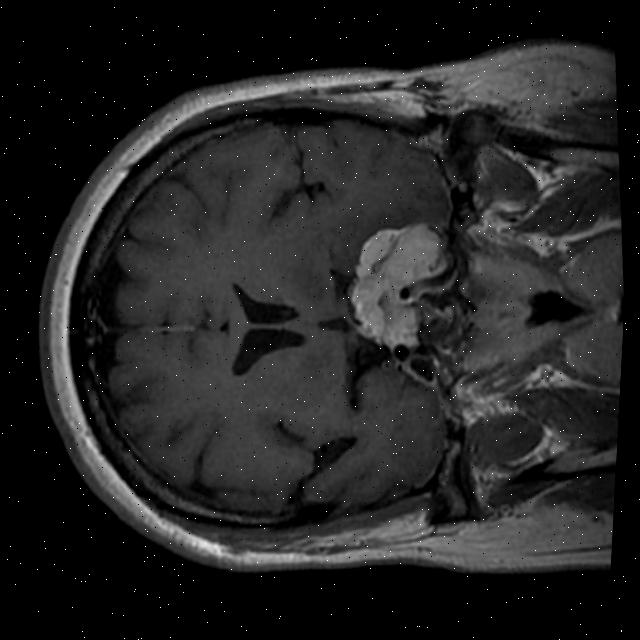Meningioma: (338, 219, 458, 354)
